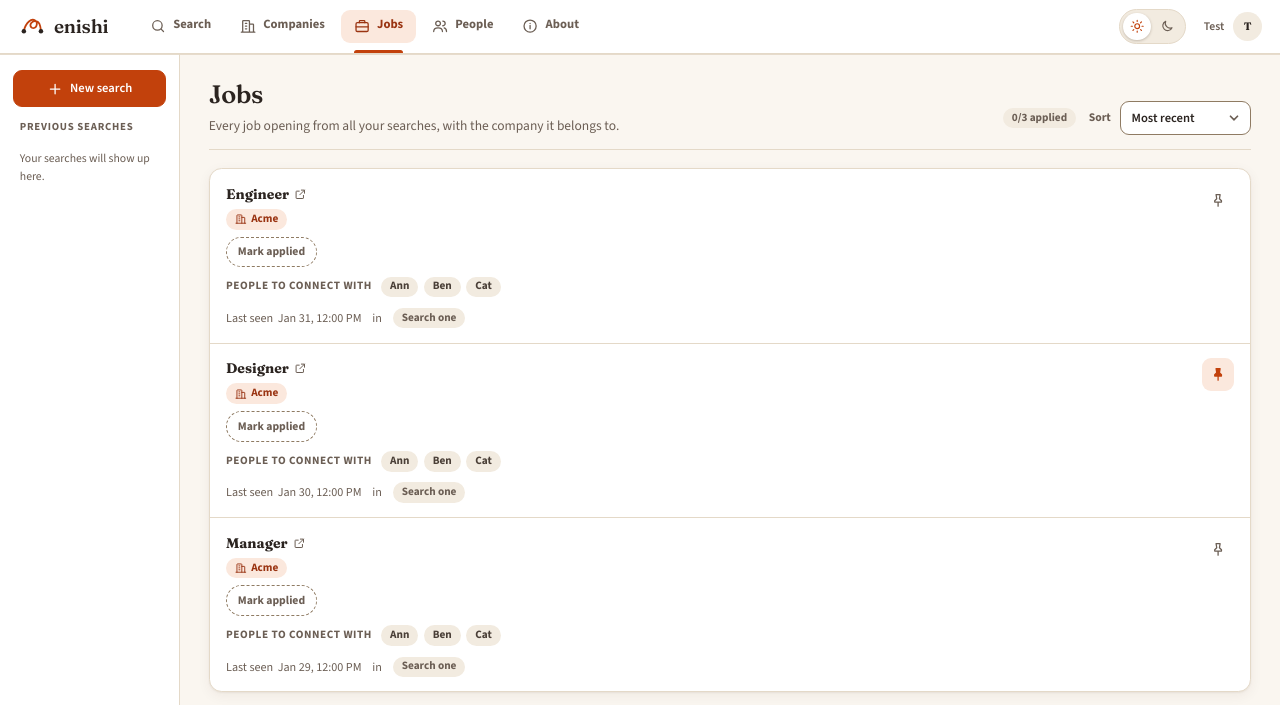
entity pages: pins › a failed unpin while sorted "Pinned first" puts the card back in the pinned group
Select "Pinned first" in the dropdown labelled "Sort" at (1186, 118), box [1120,101,1251,135]
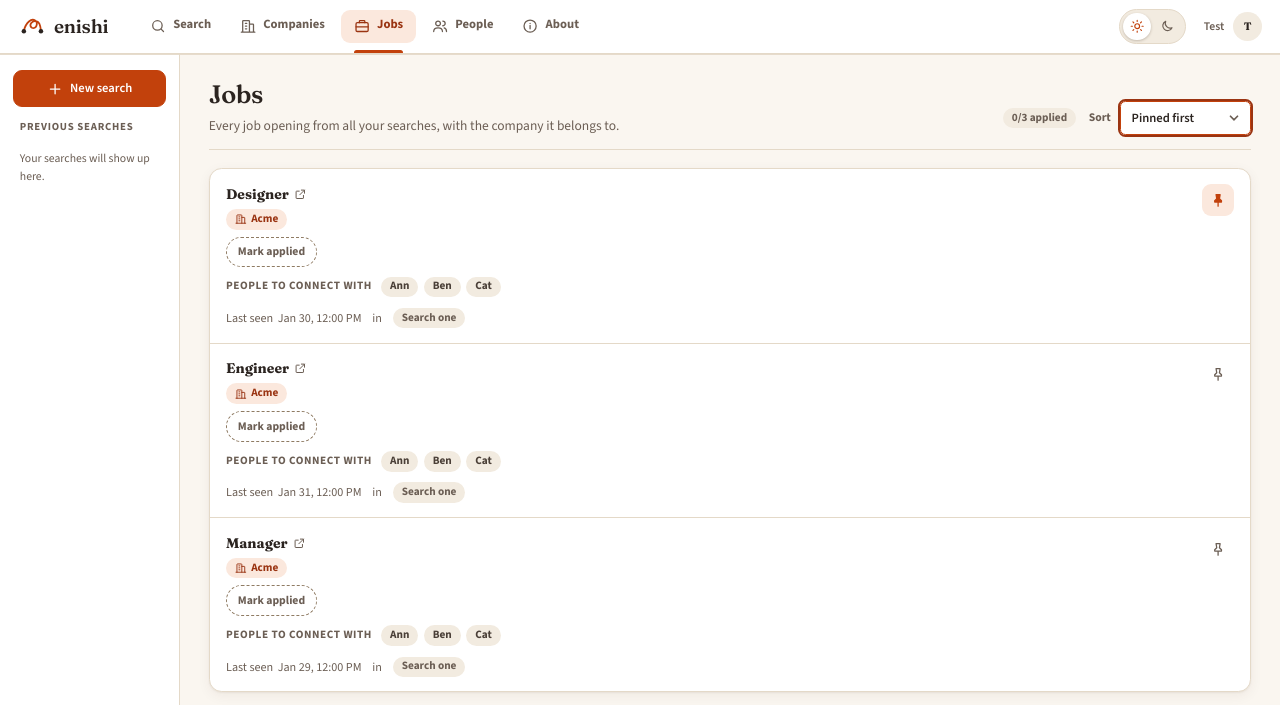
Click the button named "Pin Designer" at (1218, 200), box [1202,184,1234,216]
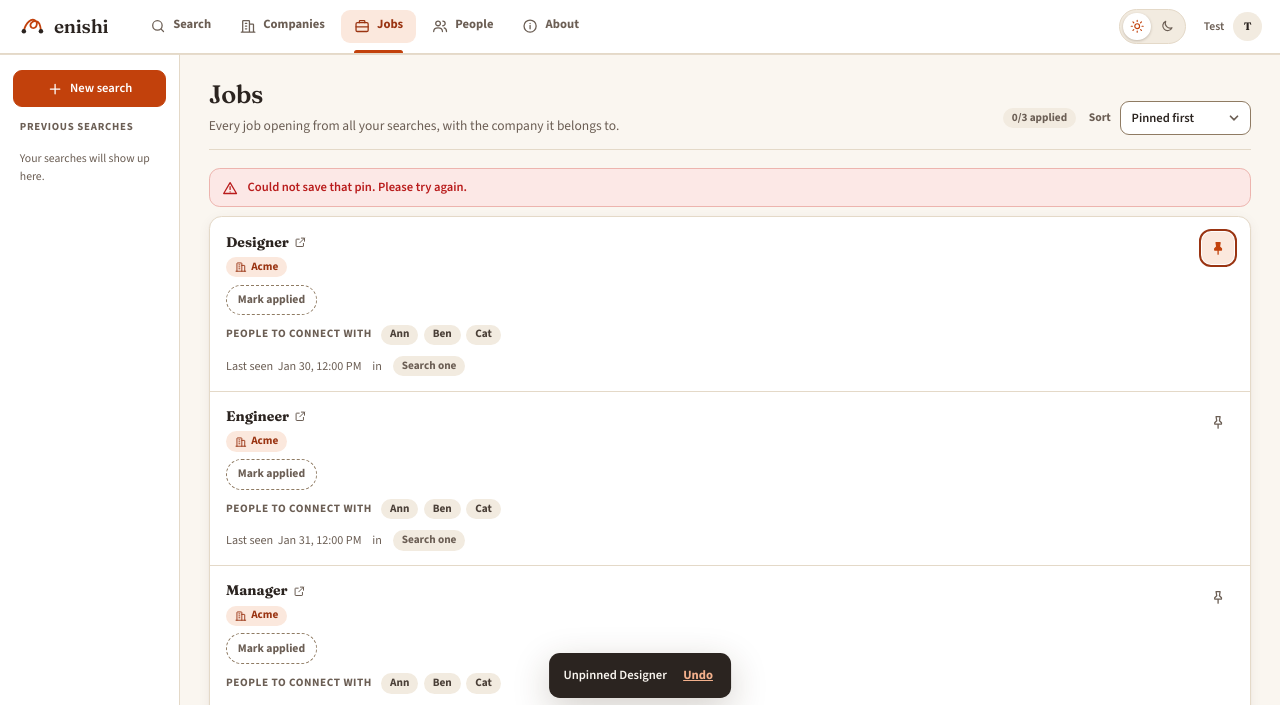
Expected: the text "Could not save that pin. Please try again." is shown, [248,178,467,197]
